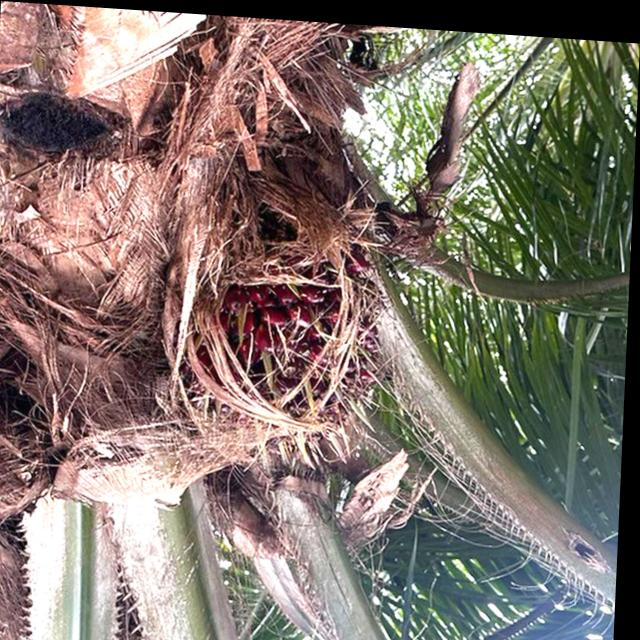ripe: (208, 230, 388, 451)
